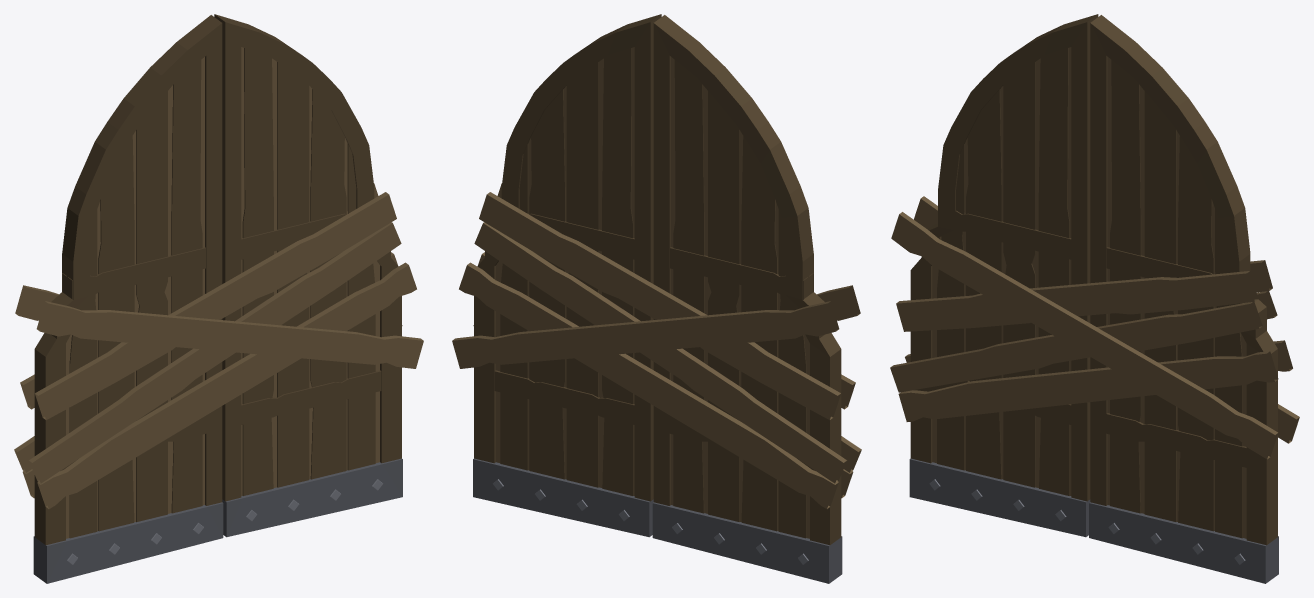
File: Doors_GothicArch_Covered.glb
3 renders of one model, left to right at view 1: azimuth 30°, elevation 25°; view 2: azimuth 150°, elevation 25°; view 3: azimuth 330°, elevation 25°, orthographic.
Parts seen in each view (by area): view 1: Doors_GothicArch_Covered; view 2: Doors_GothicArch_Covered; view 3: Doors_GothicArch_Covered.
Part boxes in pixels (bbox=[...]): Doors_GothicArch_Covered: bbox=[14, 14, 423, 583]; Doors_GothicArch_Covered: bbox=[452, 14, 861, 583]; Doors_GothicArch_Covered: bbox=[890, 14, 1299, 583].
Bounding box in the file's own units: 2.52 × 3.21 × 0.2789.
